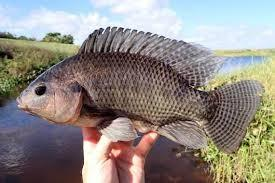Tilapia: (16, 26, 265, 154)
